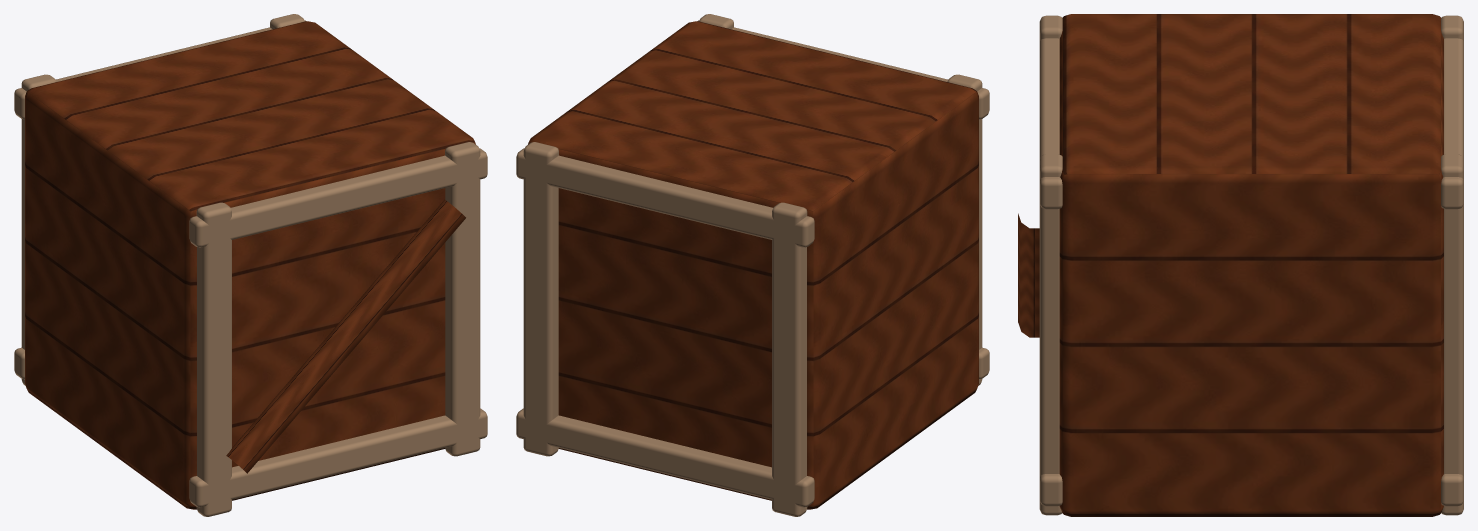
File: arena-shooter-map-kit-breakable-crate-710bc1a3__23132.glb
The picture shows the model from 3 angles, left to right: view 1: azimuth 30°, elevation 25°; view 2: azimuth 150°, elevation 25°; view 3: azimuth 270°, elevation 25°; orthographic projection. The views are drawn at different scales.
Parts seen in each view (by area): view 1: breakable-crate; view 2: breakable-crate; view 3: breakable-crate.
Part boxes in pixels (x1,y1,x2,y2): breakable-crate: (14, 14, 487, 516); breakable-crate: (516, 14, 989, 516); breakable-crate: (1018, 14, 1463, 516).
Bounding box in the file's own units: 0.8 × 0.8 × 0.925.
Materials: 2 (1 with a texture image).
